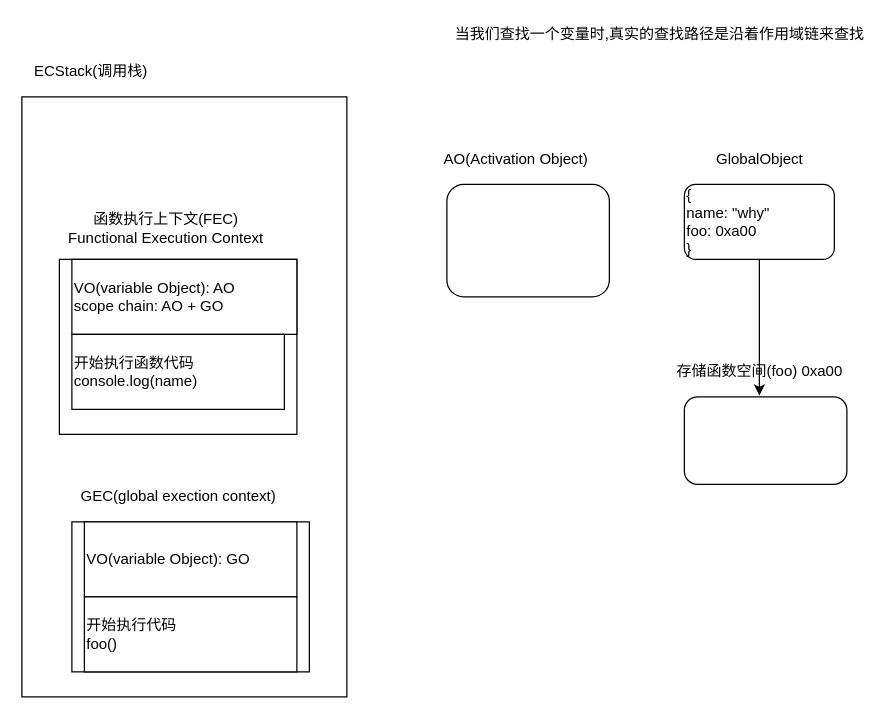
The diagram is 894 pixels wide and 719 high, and some of its shapes have lost their labels. The box of each missing label's shape, as (x1, y1, x2, y2) in pixels:
[[scope]]: parent scope 函数的执行体(代码块): (683, 396, 847, 484)
{ num: 123 m: 10 n: 20 }: (446, 183, 609, 297)
